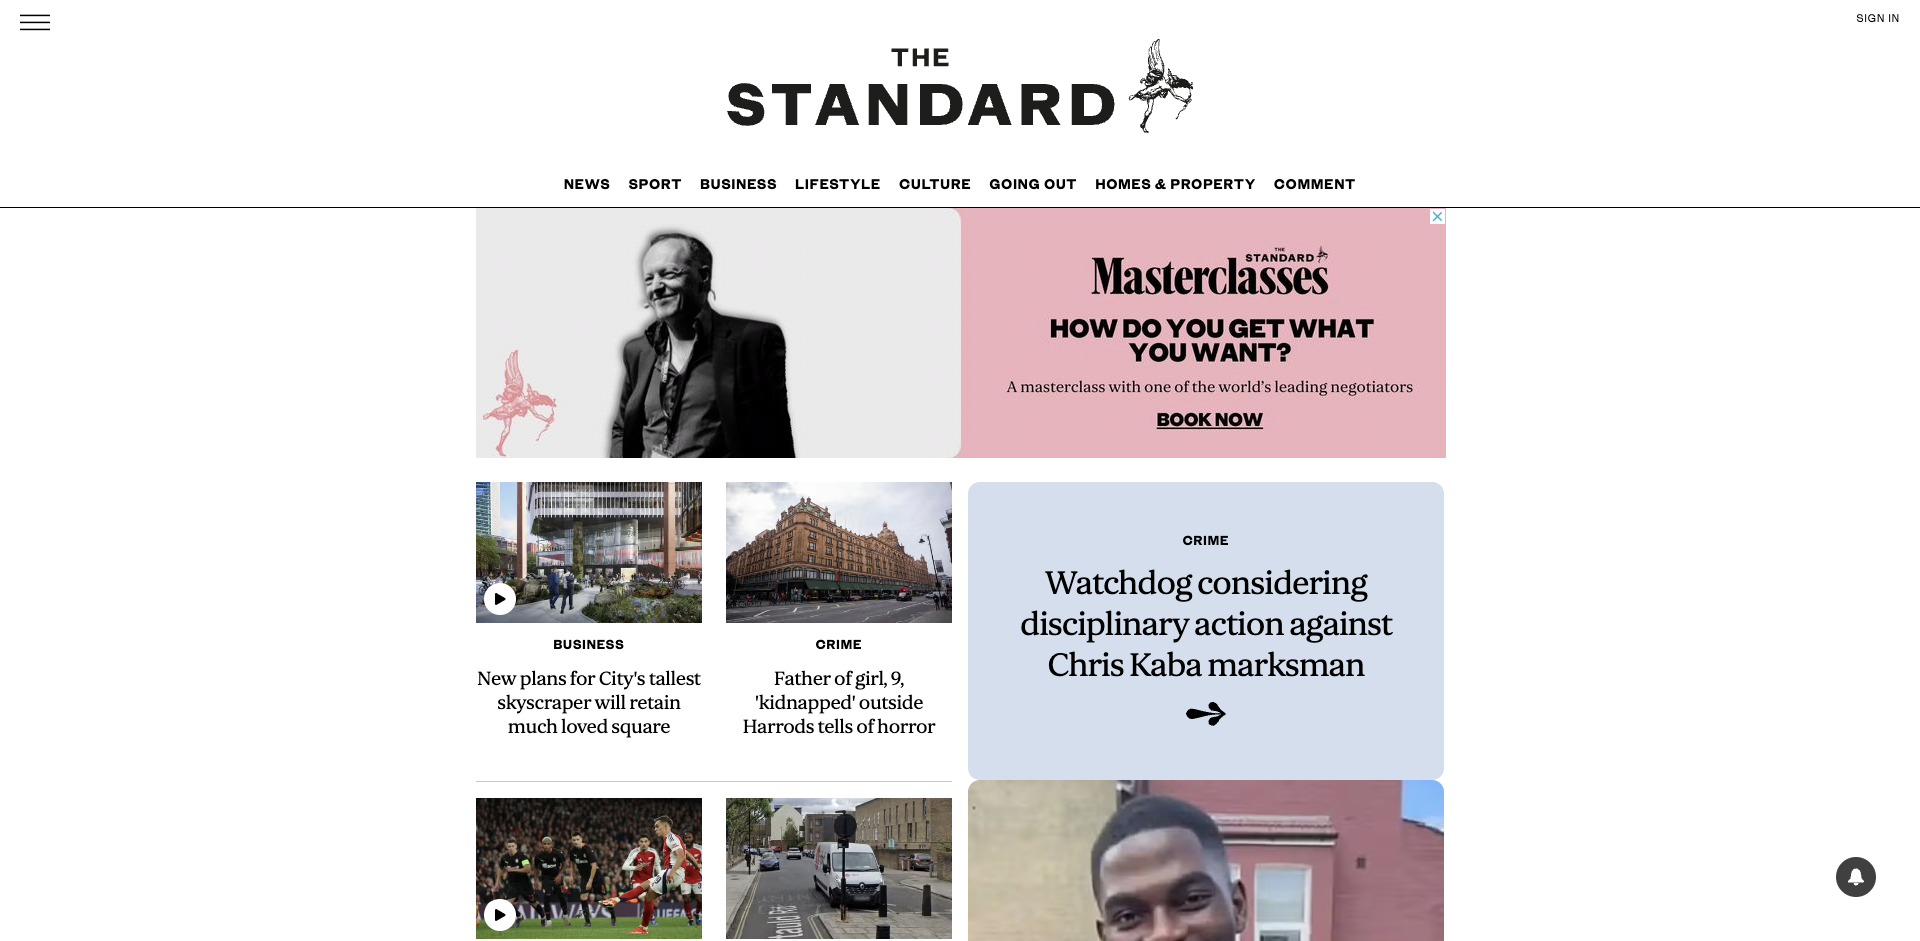button: (1836, 856, 1876, 897), (20, 13, 50, 31)
link: (969, 779, 1444, 941), (1000, 564, 1412, 686), (726, 36, 1194, 136), (476, 482, 702, 624), (726, 482, 951, 624), (476, 798, 702, 939), (726, 798, 951, 939), (476, 668, 702, 739), (726, 668, 951, 739), (1096, 176, 1256, 192), (989, 176, 1078, 192), (796, 176, 882, 192), (1275, 176, 1356, 192), (700, 176, 778, 192), (899, 176, 971, 192), (553, 640, 624, 652), (628, 176, 682, 192), (564, 176, 611, 192), (1183, 535, 1229, 548), (816, 640, 862, 652), (1856, 13, 1900, 22)
